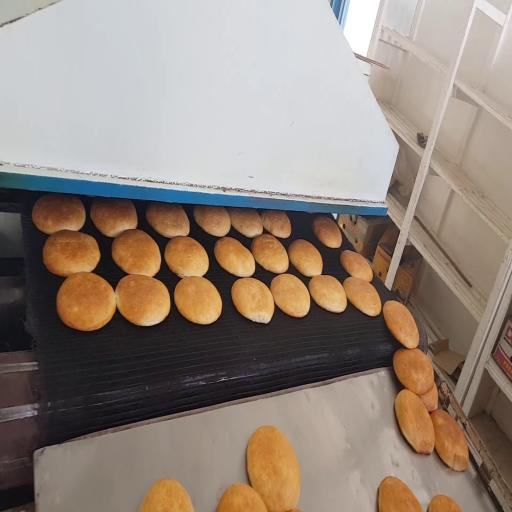bread: (247, 426, 300, 511), (57, 273, 115, 331), (115, 275, 170, 326), (43, 230, 100, 276), (395, 390, 434, 454), (112, 229, 161, 276), (431, 410, 468, 471), (174, 277, 222, 324), (32, 194, 85, 234), (232, 278, 274, 323), (393, 349, 434, 395), (91, 198, 137, 237), (165, 237, 209, 277), (139, 479, 193, 511), (383, 301, 419, 348), (271, 274, 310, 317), (214, 237, 255, 277), (146, 202, 189, 237), (343, 277, 381, 316), (379, 477, 422, 511), (251, 234, 288, 273), (309, 275, 346, 312), (217, 484, 267, 511), (289, 239, 322, 277), (194, 206, 230, 237), (340, 250, 373, 282), (228, 208, 262, 237), (312, 216, 342, 248), (260, 211, 291, 238), (428, 495, 461, 511), (420, 385, 438, 412)
